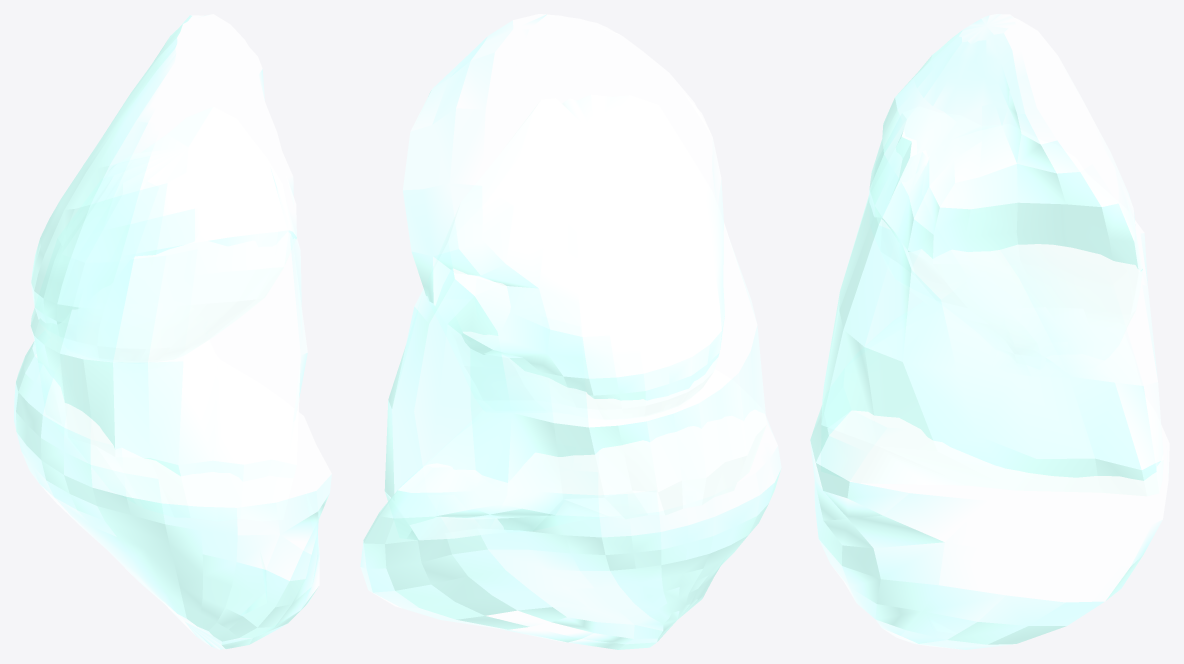
The model's file is chrysalis.gltf.
3 renders of one model, left to right at view 1: azimuth 30°, elevation 25°; view 2: azimuth 150°, elevation 25°; view 3: azimuth 270°, elevation 25°, orthographic. The views are drawn at different scales.
Parts seen in each view (by area): view 1: name0; view 2: name0; view 3: name0.
Boxes of the visible parts, x1,y1,x2,y2 form: name0: (14, 14, 331, 649); name0: (360, 14, 781, 649); name0: (810, 14, 1169, 649).
Size of the model in its own units: 0.3766 by 0.7474 by 0.3954.
Materials: 1 (1 with a texture image).
